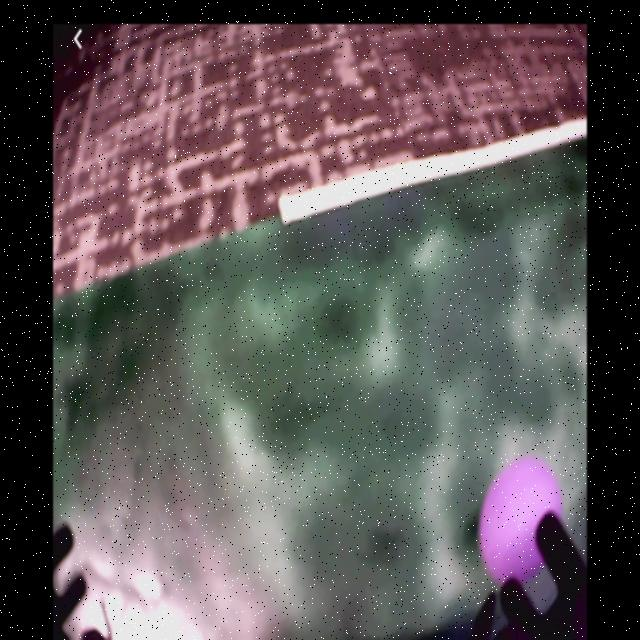ball: (482, 457, 562, 577)
